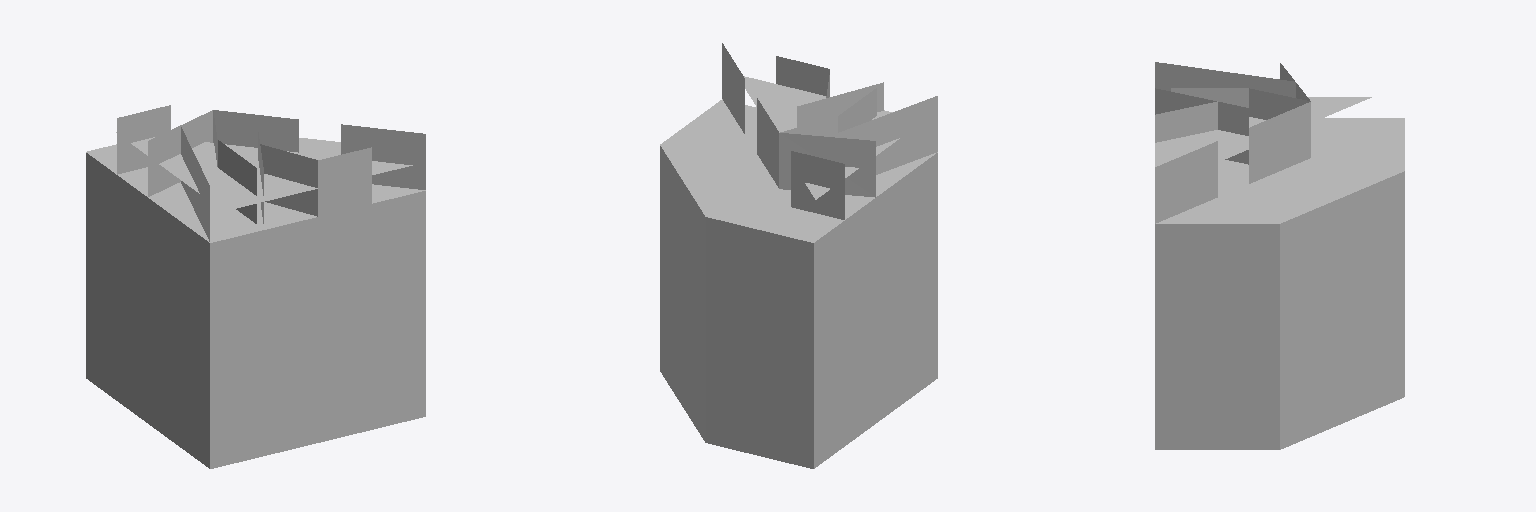
The model's file is blushrock_21.obj.
3 renders of one model, left to right at view 1: azimuth 30°, elevation 25°; view 2: azimuth 150°, elevation 25°; view 3: azimuth 270°, elevation 25°, orthographic.
Bounding box in the file's own units: 1 × 1.25 × 1.